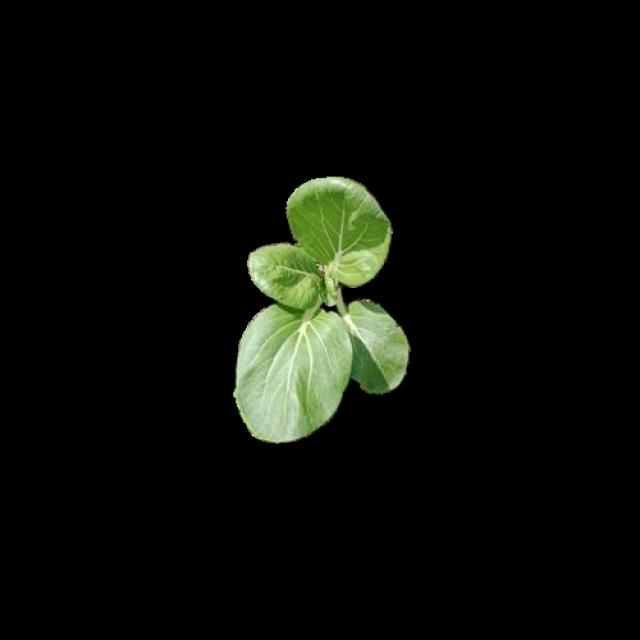healthy: (229, 172, 408, 440)
not-mature: (232, 174, 411, 443)
